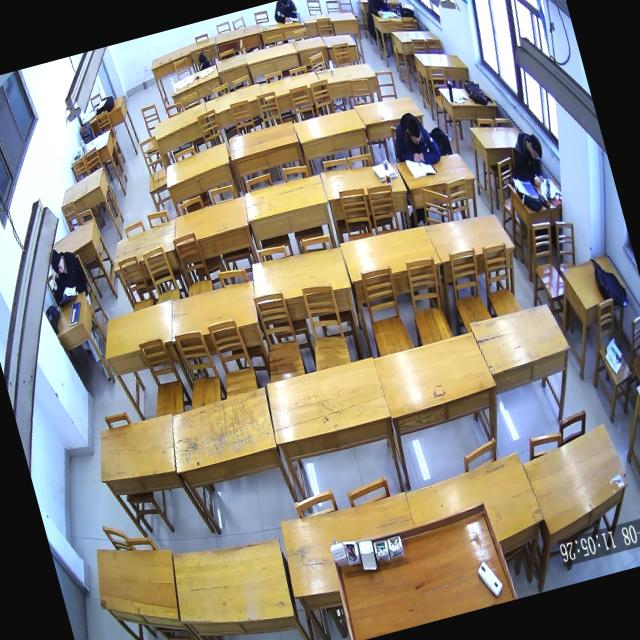down: (402, 113, 426, 149), (524, 130, 546, 164), (46, 246, 68, 278)
sit: (384, 104, 442, 174), (40, 240, 92, 308), (504, 126, 553, 194), (362, 0, 393, 22)
